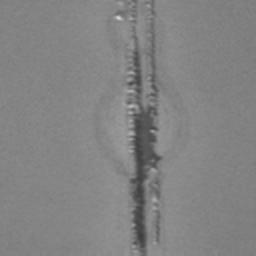Slag inclusion: (113, 0, 164, 253)
